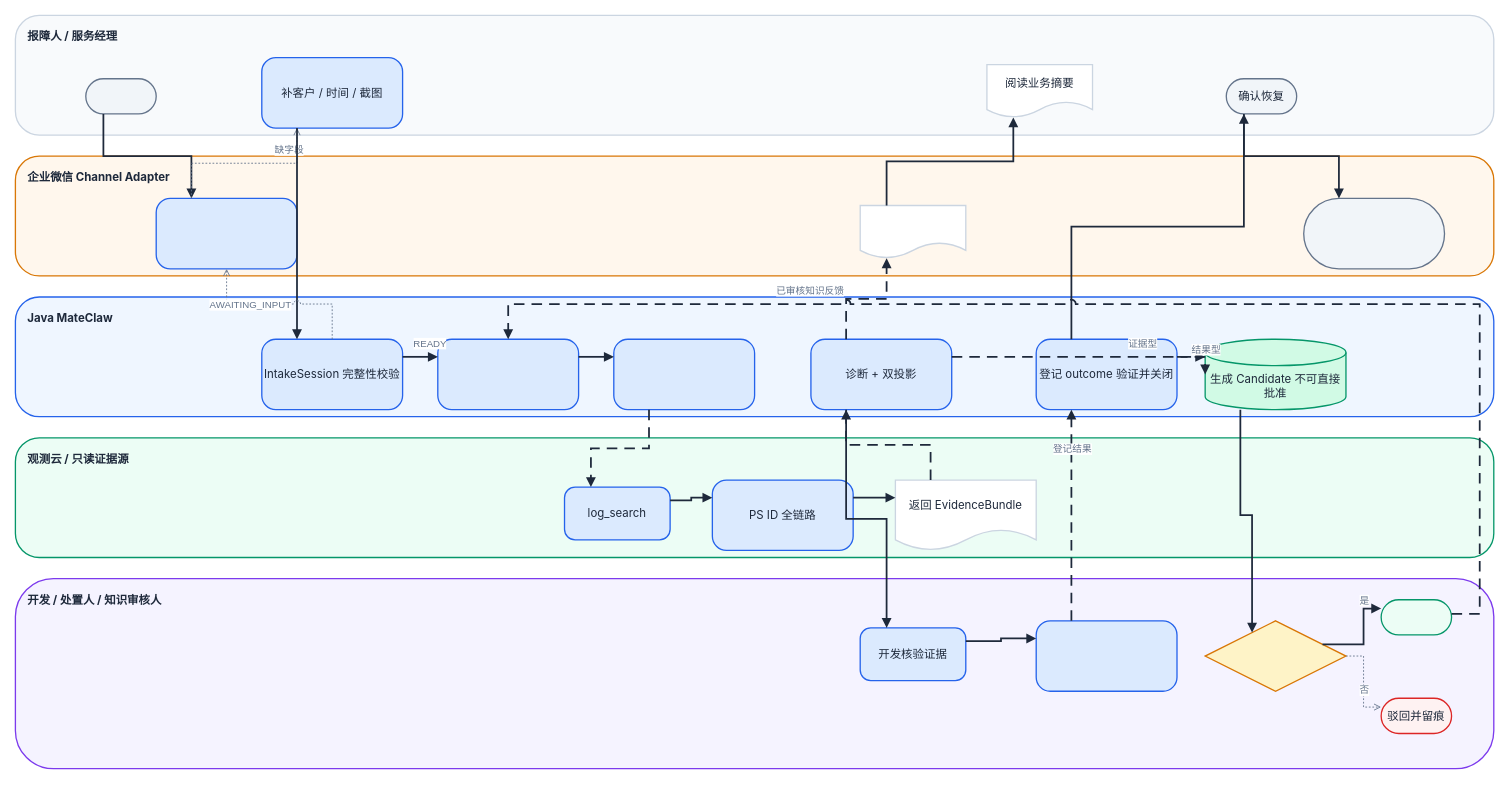
This 1510x785 diagram has some shape labels left out. Each missing label, with the centre of its shape:
"@ 助手报障" goes at point (120, 96).
"三类路径规划 权威与预算" goes at point (508, 374).
"人工处置 系统不执行" goes at point (1106, 656).
"关闭后 @ 报障人" goes at point (1374, 233).
"原路回执进展" goes at point (912, 231).
"只读取证编排" goes at point (684, 374).
"批准新版本" goes at point (1416, 617).
"知识审核 满足资格？" goes at point (1275, 656).
"确认收到 / 补问" goes at point (226, 233).
